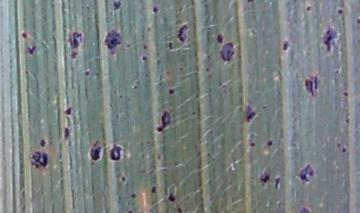tarspot: (102, 28, 123, 56), (320, 25, 339, 55), (218, 41, 237, 64), (302, 74, 321, 97), (156, 109, 172, 135), (30, 150, 50, 170), (88, 139, 104, 163), (298, 161, 314, 184), (65, 29, 83, 49), (107, 141, 123, 162), (243, 102, 257, 123), (176, 23, 189, 44), (258, 169, 272, 186), (61, 126, 71, 141), (214, 31, 225, 44), (110, 1, 124, 11), (166, 190, 177, 202), (62, 105, 73, 117), (281, 39, 290, 53), (26, 44, 37, 55), (19, 30, 30, 41), (38, 137, 48, 149), (296, 205, 310, 213), (151, 57, 162, 67), (273, 176, 281, 189), (68, 49, 78, 59), (344, 111, 351, 124), (150, 5, 159, 15), (247, 140, 257, 149), (167, 87, 176, 96), (140, 54, 149, 63), (83, 68, 91, 78), (265, 138, 273, 148), (340, 146, 348, 155), (167, 40, 174, 50), (123, 42, 133, 49), (120, 174, 127, 183), (150, 185, 157, 194), (336, 7, 343, 16), (304, 5, 312, 12), (141, 43, 149, 50), (189, 110, 197, 117), (164, 68, 171, 76), (155, 152, 161, 161), (144, 25, 151, 32), (177, 65, 184, 72), (113, 113, 120, 120), (260, 104, 267, 111), (131, 84, 138, 91), (111, 89, 118, 96), (230, 136, 237, 143), (144, 139, 151, 146), (138, 140, 145, 147), (176, 205, 182, 213), (341, 91, 349, 97), (130, 191, 136, 198), (216, 81, 222, 88), (334, 69, 340, 76), (355, 16, 360, 24), (336, 141, 341, 149), (93, 71, 99, 77), (204, 67, 210, 73), (139, 153, 145, 159), (117, 94, 124, 99), (127, 209, 131, 213)
